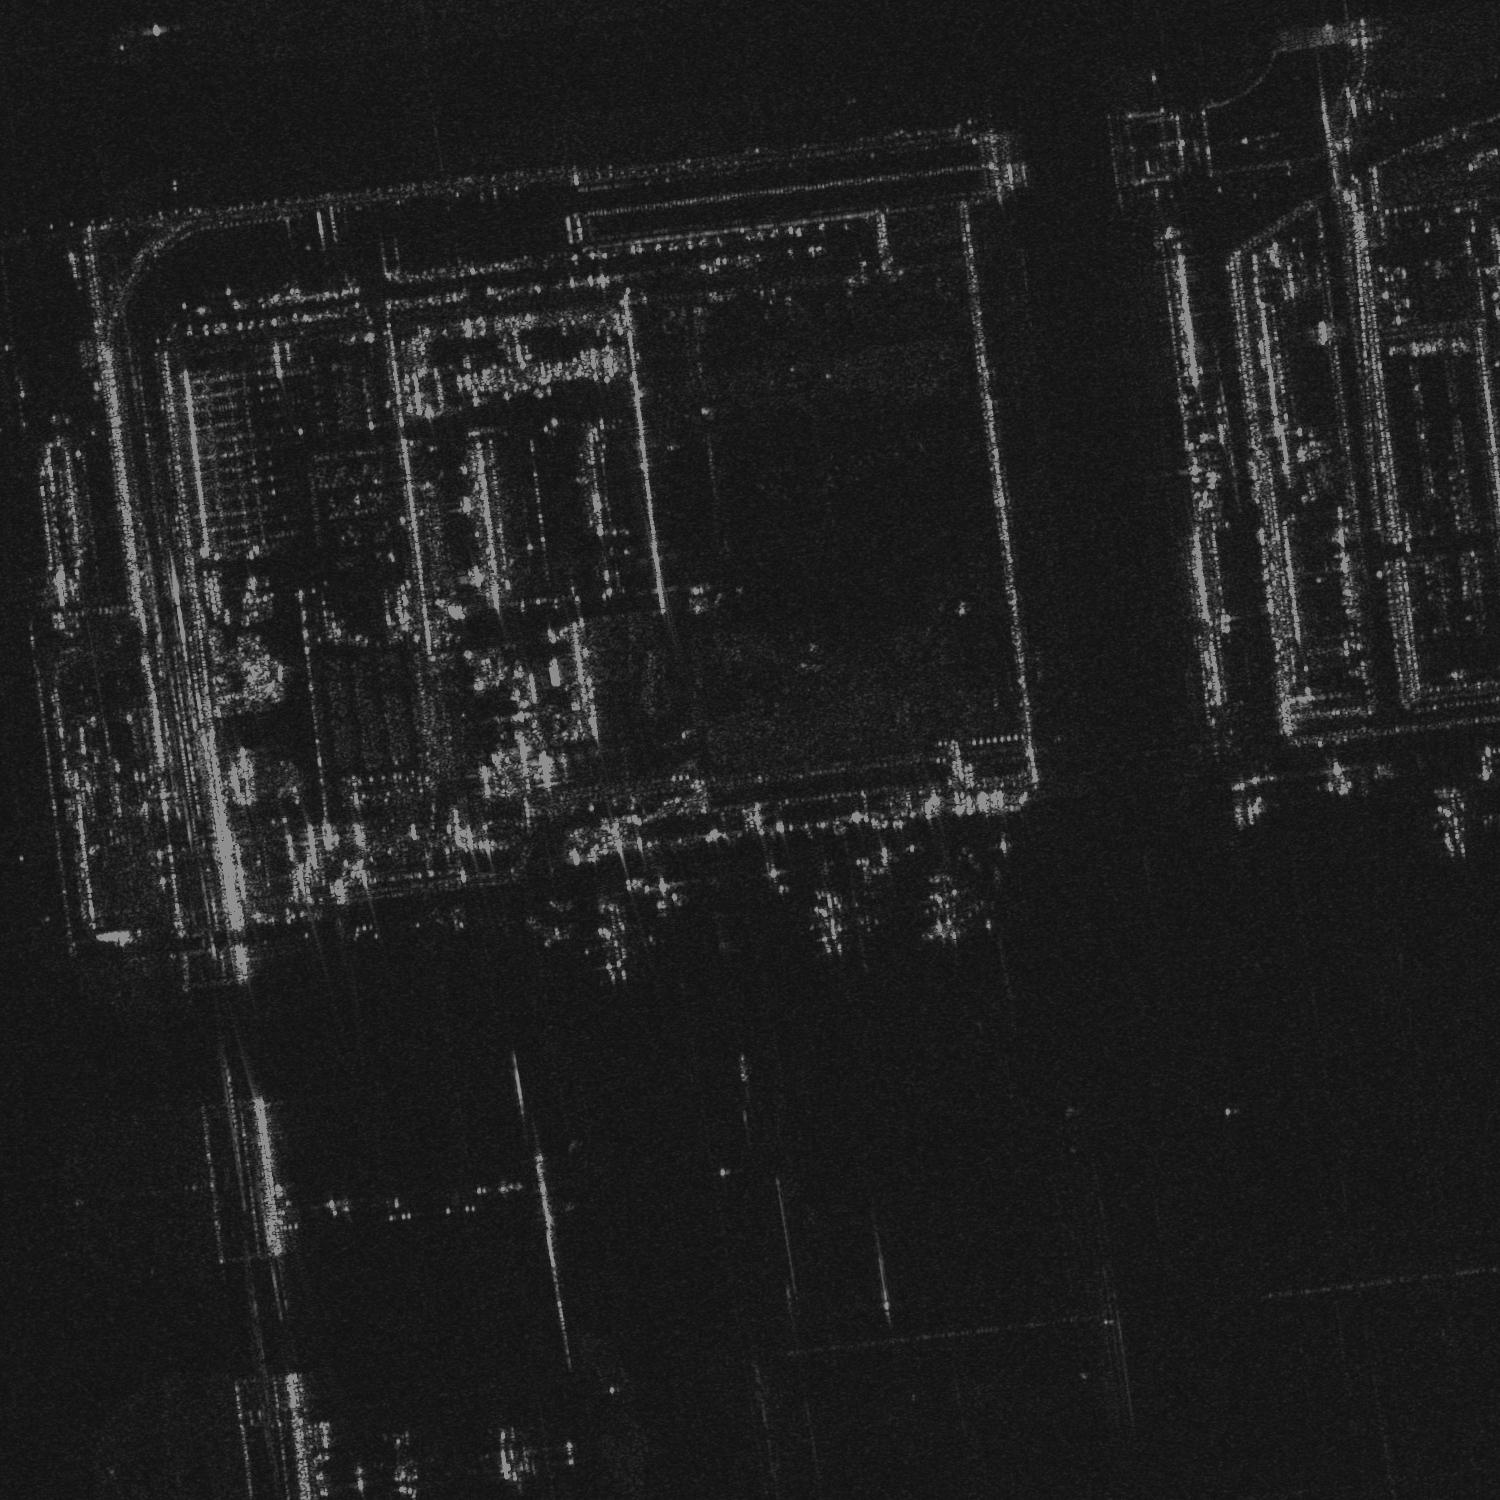Boeing787: (584, 901, 657, 984), (1416, 784, 1495, 860), (795, 882, 865, 959), (918, 876, 981, 944)
